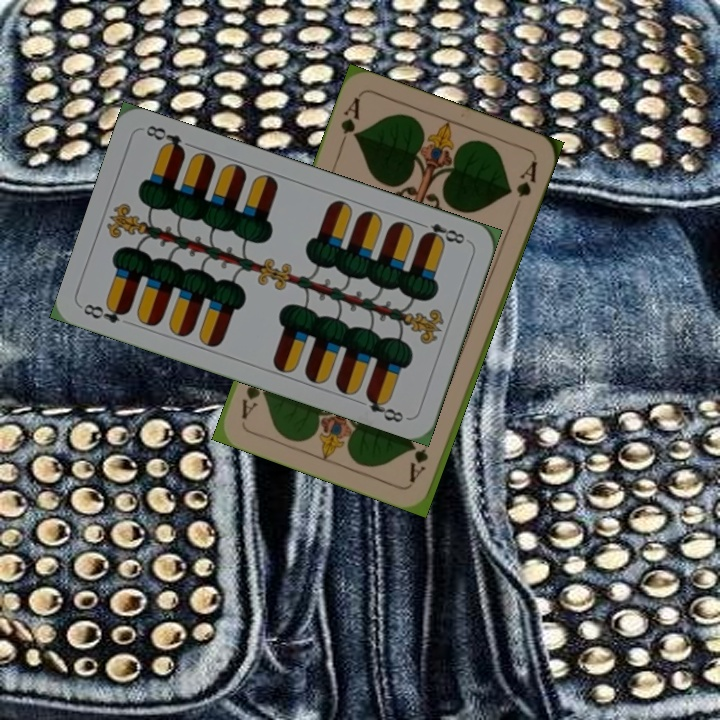E8: (79, 299, 136, 328), (414, 218, 468, 247)
GA: (335, 93, 363, 150), (405, 444, 431, 486)
